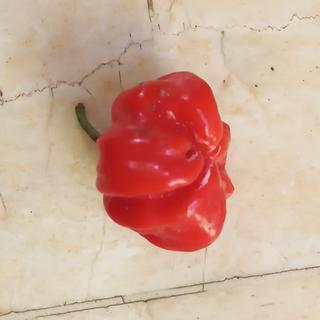Grade-B: (94, 68, 241, 258)
